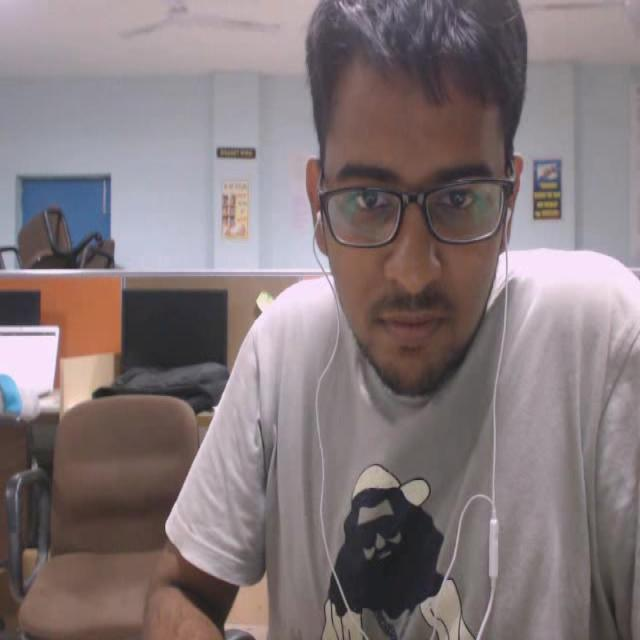Engaged: (285, 0, 545, 412)
